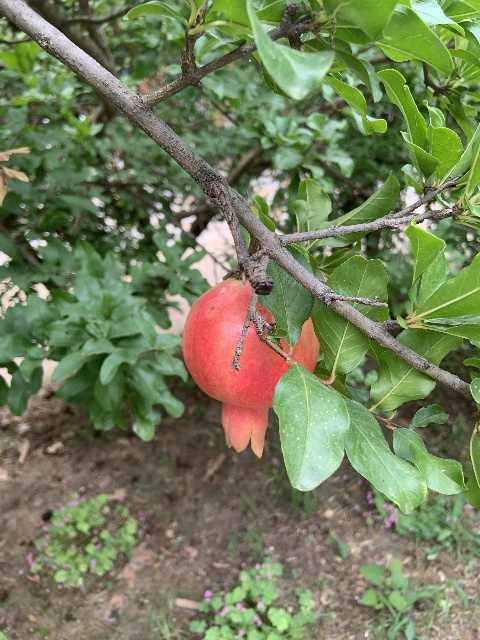ripe: (181, 279, 320, 459)
